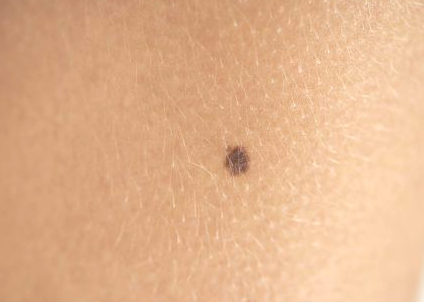Normal: (224, 148, 249, 177)
